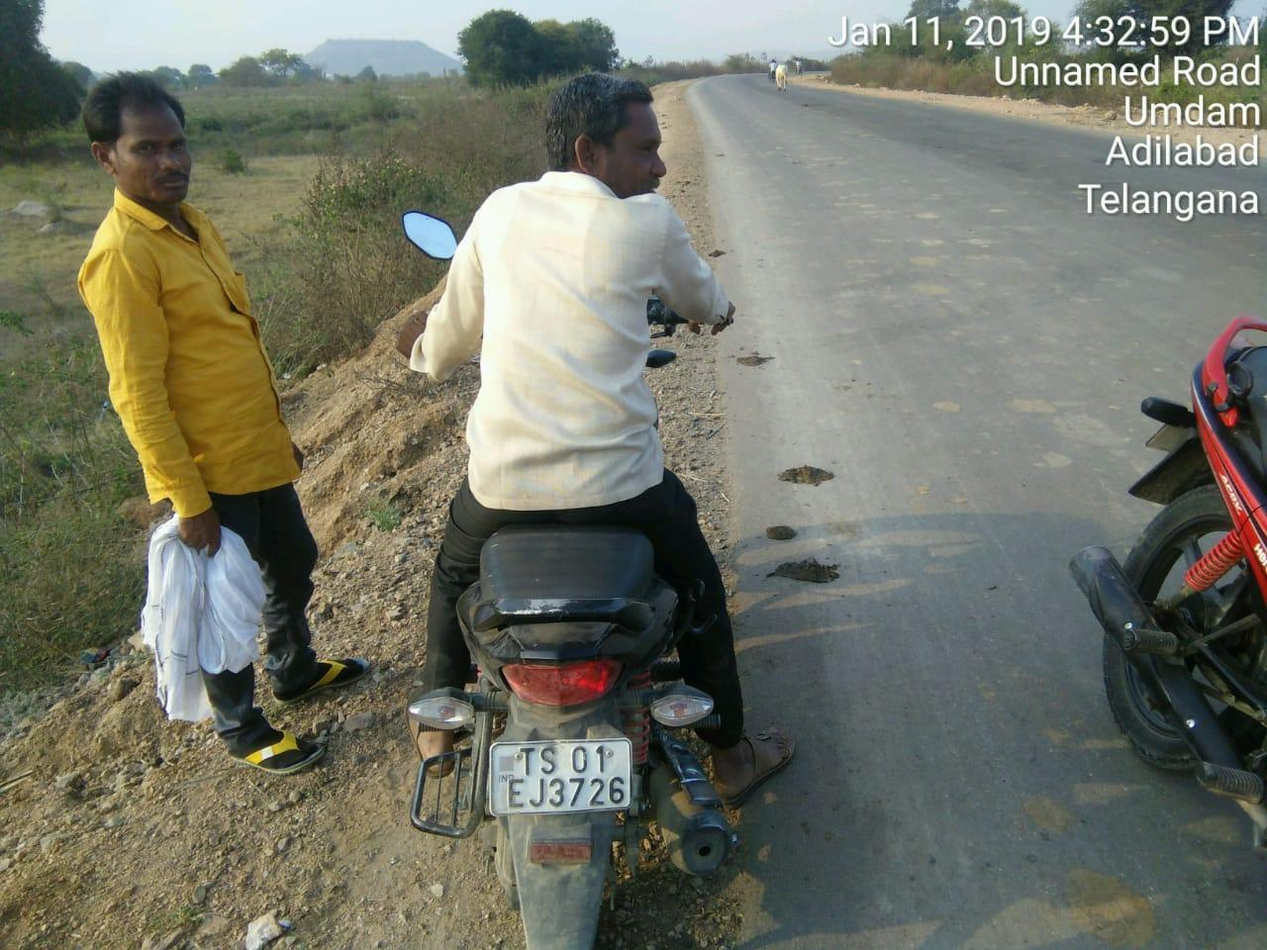plate: (484, 728, 637, 828)
